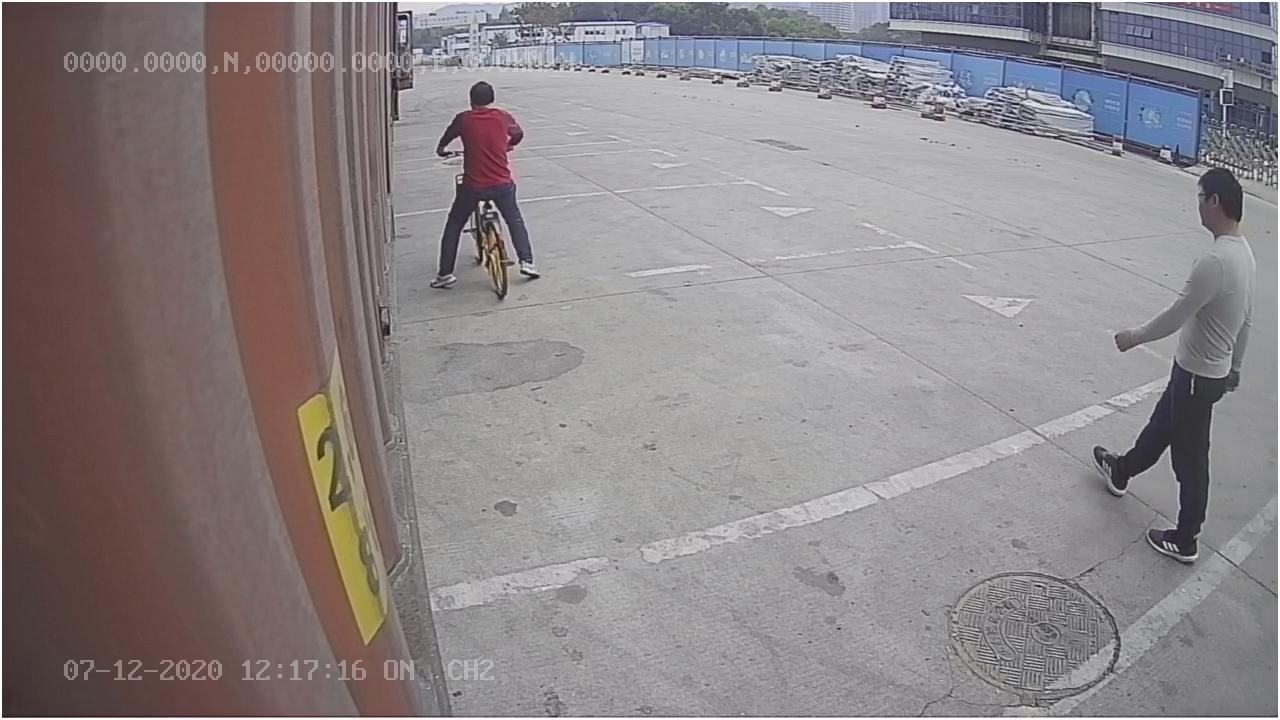person: (1091, 157, 1262, 563)
